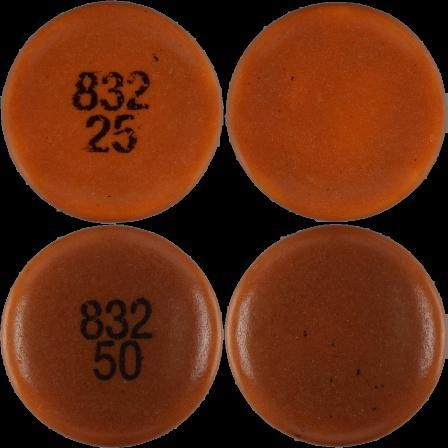0832-0301: (0, 0, 224, 224)
